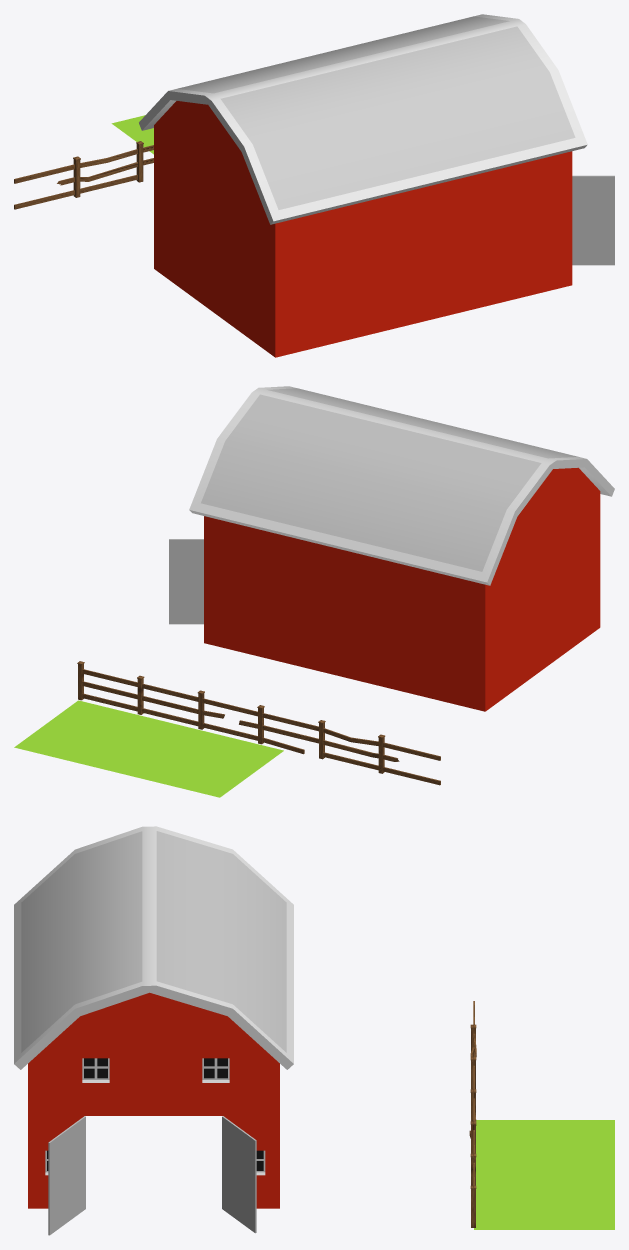
File: Environment.fbx
3 views of the same model, one above another, from view 1: azimuth 30°, elevation 25°; view 2: azimuth 150°, elevation 25°; view 3: azimuth 270°, elevation 25° (orthographic). The views are drawn at different scales.
Parts seen in each view (by area): view 1: Barn, Fance02, road; view 2: Barn, road, Fance01, fance03, Fance02; view 3: Barn, road.
Boxes of the visible parts, x1,y1,x2,y2 form: Barn: (139,14,614,357); Fance02: (14,141,143,209); road: (111,115,153,154); Barn: (169,386,614,711); road: (14,700,283,797); Fance01: (77,661,198,726); fance03: (197,690,318,754); Fance02: (318,720,440,785); Barn: (14,826,293,1235); road: (474,1120,614,1229).
Bounding box in the file's own units: 5471 × 2908 × 6921.
